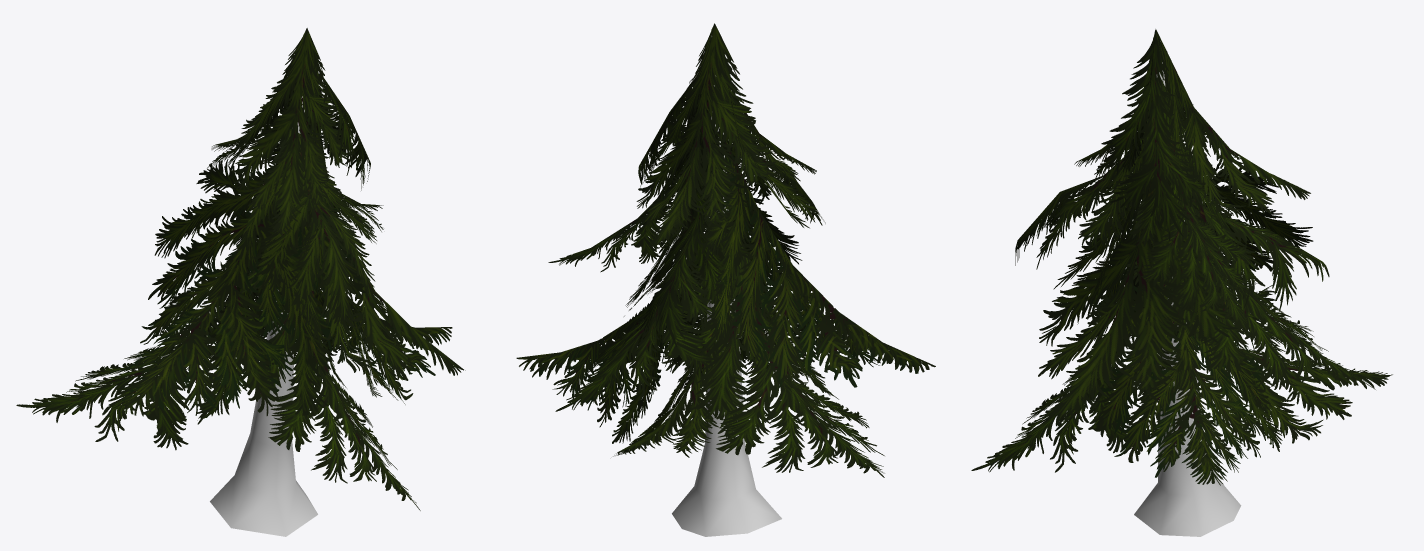
File: spruce_06.fbx
3 renders of one model, left to right at view 1: azimuth 30°, elevation 25°; view 2: azimuth 150°, elevation 25°; view 3: azimuth 270°, elevation 25°, orthographic. The views are drawn at different scales.
Parts seen in each view (by area): view 1: Spruce_6_LOD0; view 2: Spruce_6_LOD0; view 3: Spruce_6_LOD0.
Boxes of the visible parts, left/top/right/bottom form: Spruce_6_LOD0: left=16, top=28, right=465, bottom=536; Spruce_6_LOD0: left=516, top=23, right=935, bottom=536; Spruce_6_LOD0: left=971, top=29, right=1392, bottom=536.
Size of what is drawn, in the model's own units: 2.91 by 3.43 by 2.66.
